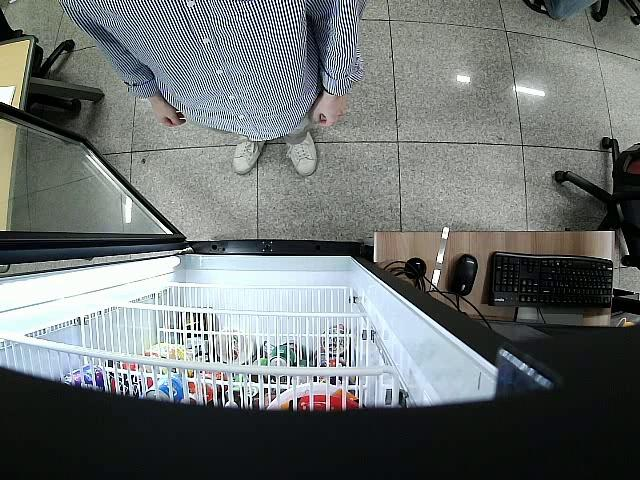00_hand: (310, 96, 348, 127), (155, 102, 188, 129)
